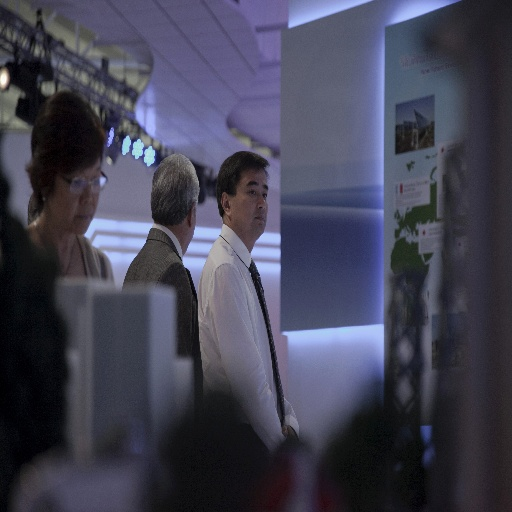hand: (281, 426, 296, 438)
